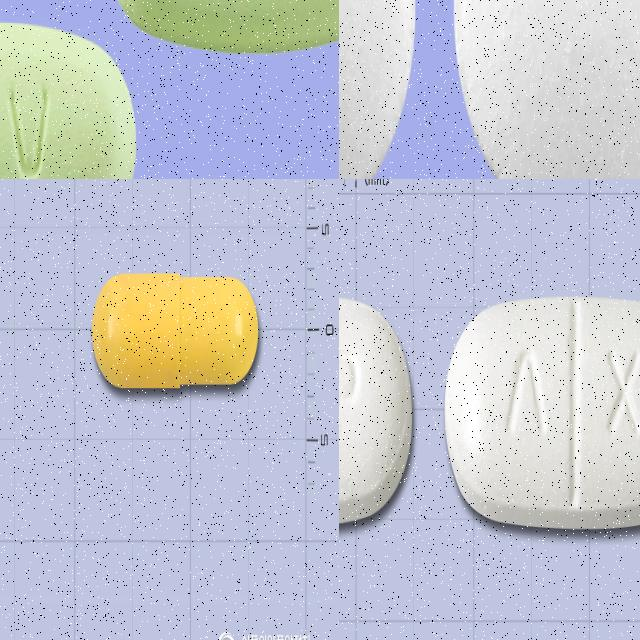Amoxicle-7-1-: (441, 293, 640, 534), (339, 288, 416, 536)
Besivo: (451, 0, 640, 179), (339, 0, 418, 179)
Cefixime Cap- Withus: (90, 268, 265, 398)
Cllaricin: (0, 16, 141, 179)
